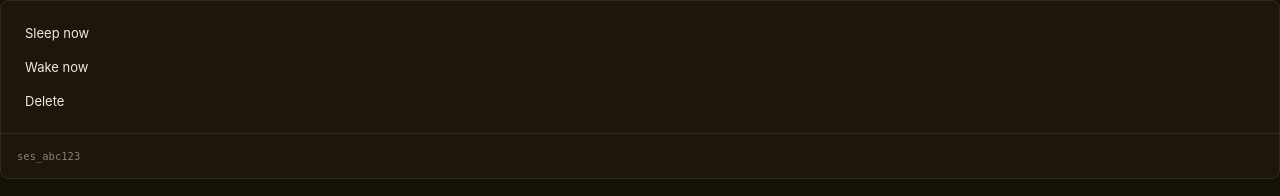
Test: SessionActionsMenu › copies the session id to the clipboard and shows a brief confirmation without dismissing the menu
Click the button "ses_abc123" at (49, 156), box [17,150,1263,162]
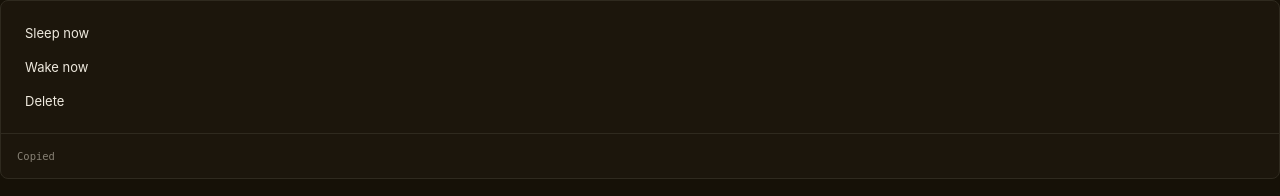
Expected: the button "Wake now" is shown, [17,51,1263,83]
Now the button "Copied" is shown, box [17,150,1263,162]
